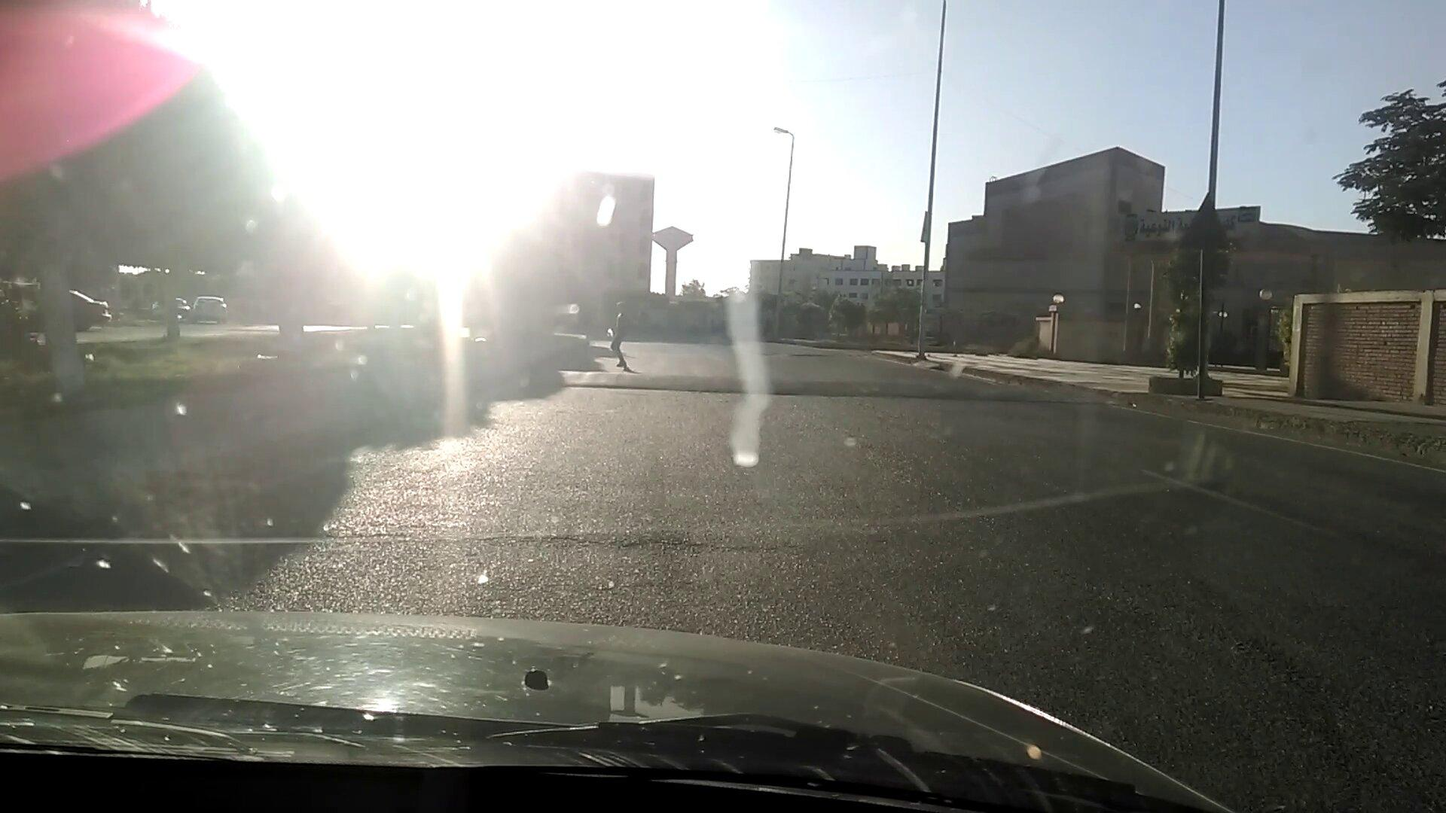Bump: (550, 367, 1039, 399)
